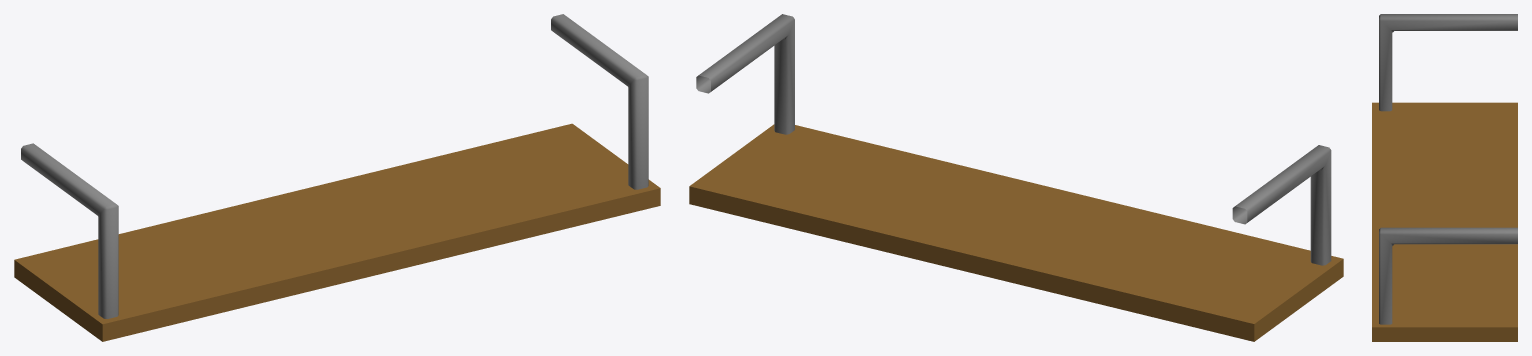
File: WallShelf_Simple.fbx
3 renders of one model, left to right at view 1: azimuth 30°, elevation 25°; view 2: azimuth 150°, elevation 25°; view 3: azimuth 270°, elevation 25°, orthographic. The views are drawn at different scales.
Parts seen in each view (by area): view 1: WallShelf_Simple; view 2: WallShelf_Simple; view 3: WallShelf_Simple.
Boxes of the visible parts, bbox=[...] form: WallShelf_Simple: bbox=[14, 14, 660, 341]; WallShelf_Simple: bbox=[689, 14, 1343, 341]; WallShelf_Simple: bbox=[1372, 14, 1517, 341].
Size of the model in its own units: 105 by 23.32 by 28.85.
